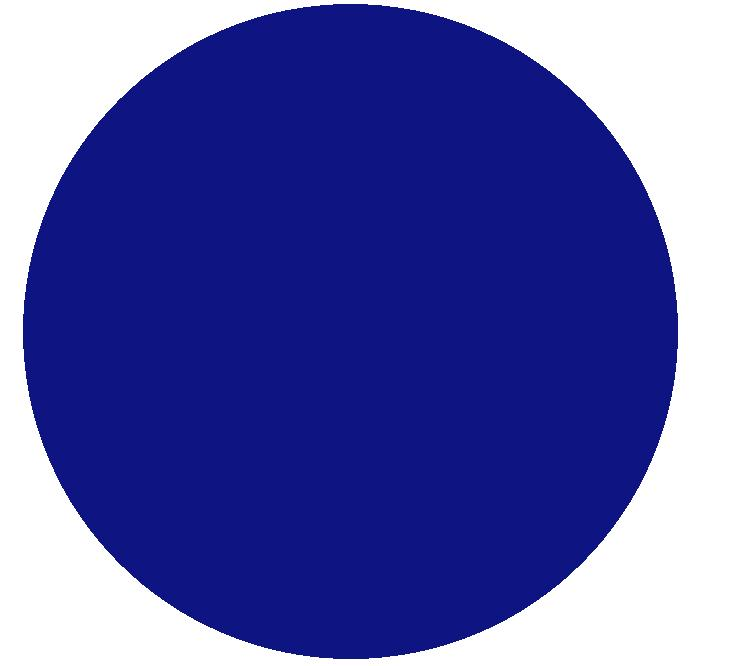blue_circle: (17, 0, 701, 666)
